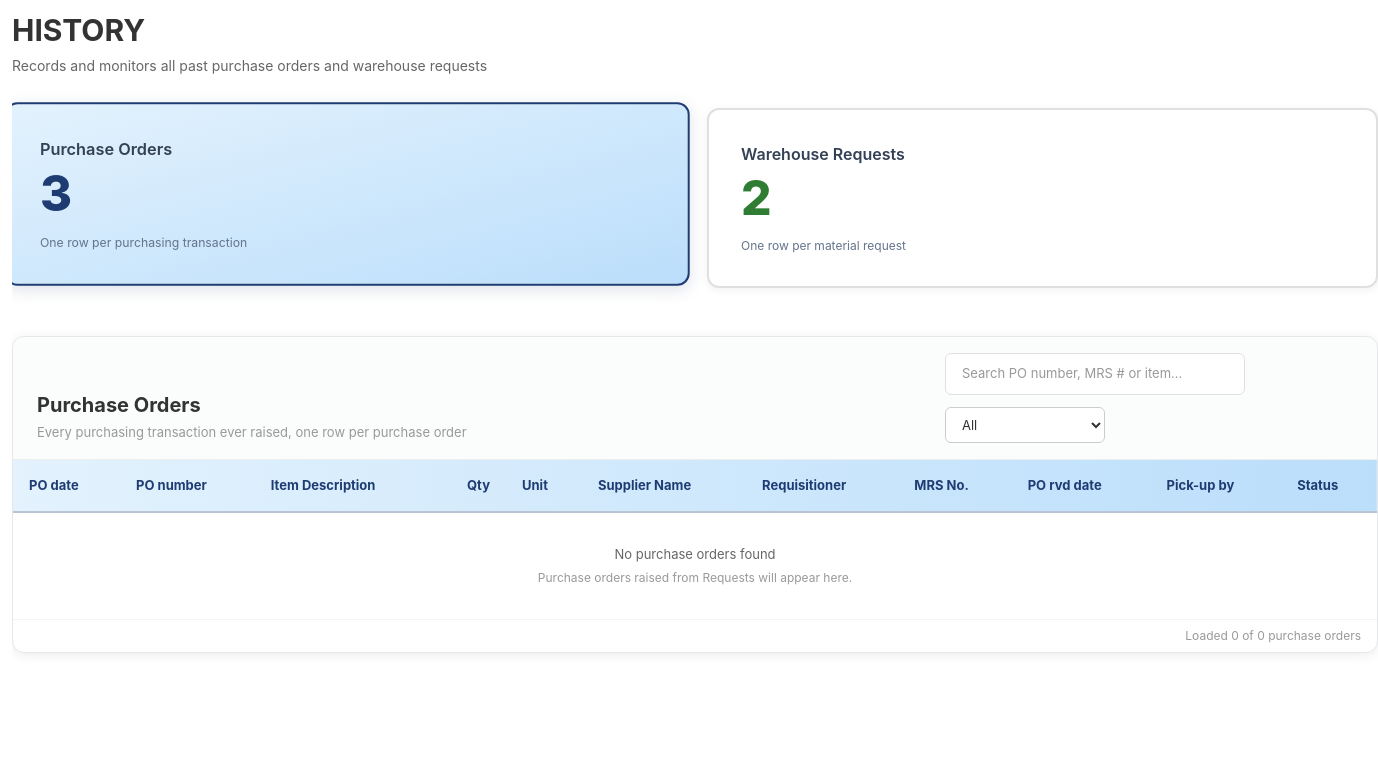
Scenario: loading and empty states stay contextual › says a filtered result is empty because of the filter
Step 1. Select "Cancelled" in the dropdown named "Filter purchase orders by status" → (1025, 424), box [945,406,1105,442]
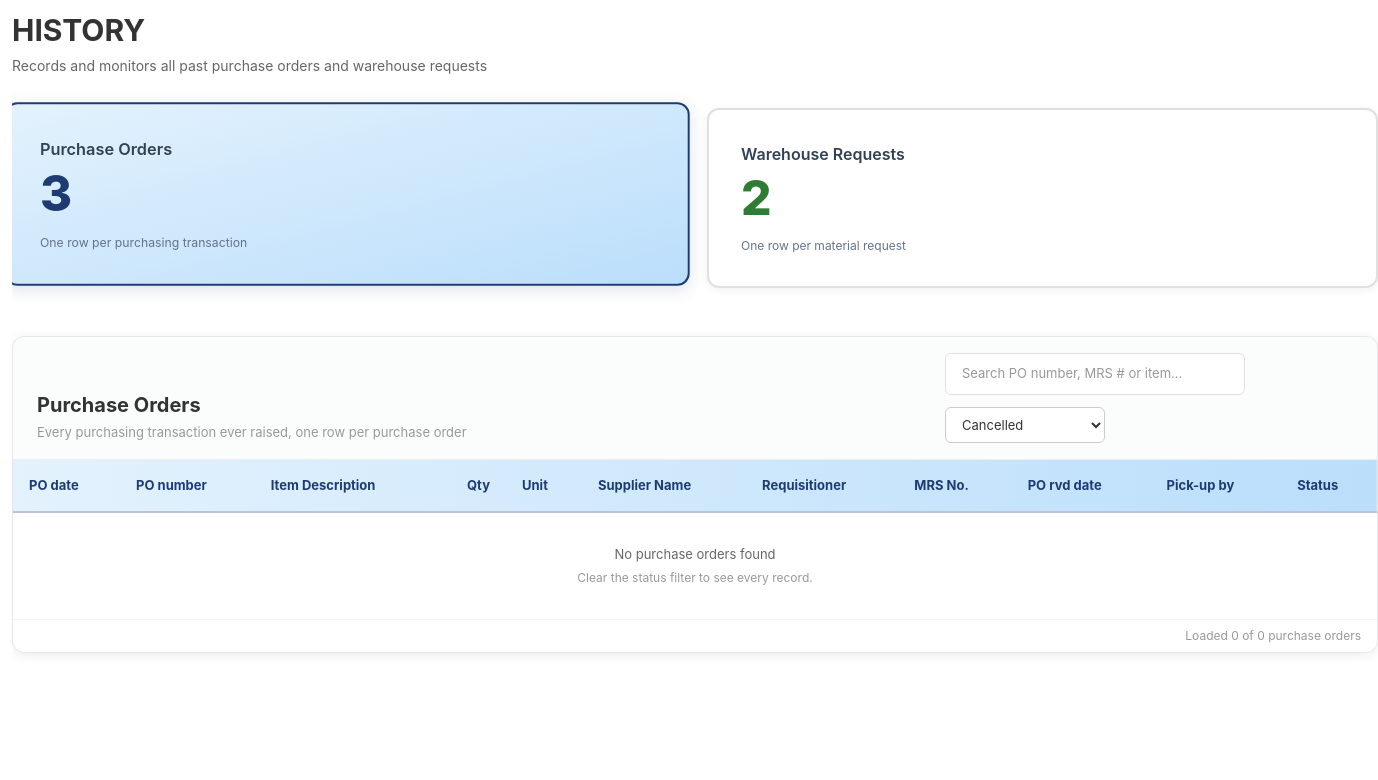
Expected: the text "No purchase orders found" is shown, [614,546,776,562]
Result: the text "Clear the status filter to see every record." is shown at [577,570,813,584]
